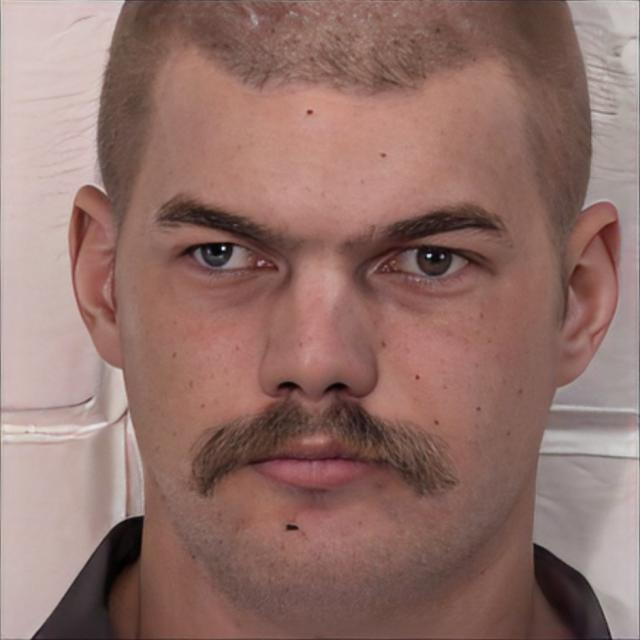anger: (112, 29, 557, 622)
